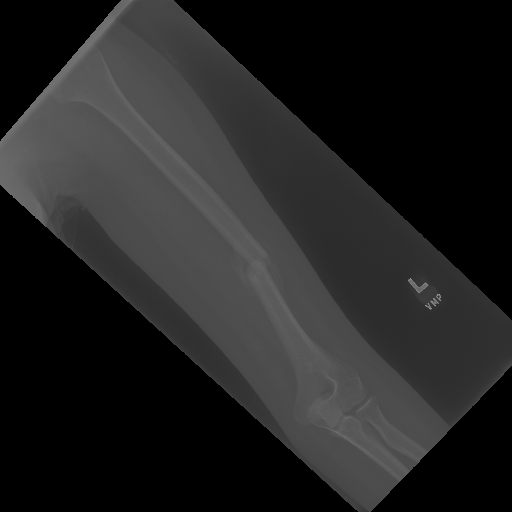fracture: (228, 232, 284, 301)
